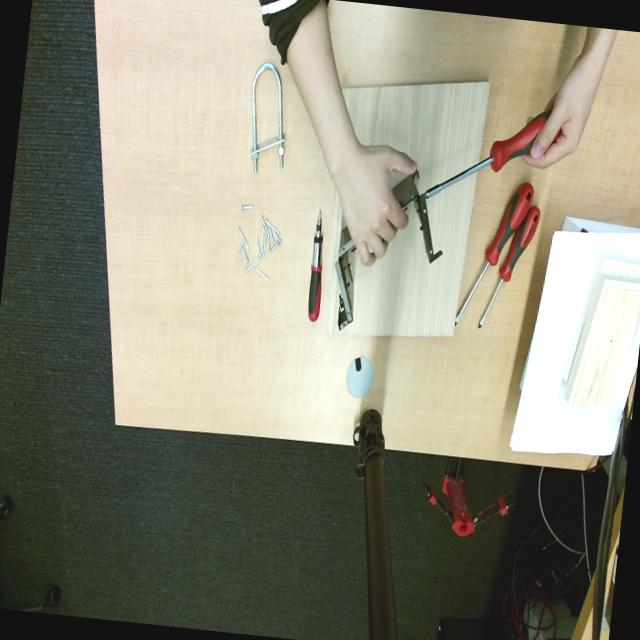screwdriver: (424, 109, 551, 199), (455, 183, 533, 323), (478, 206, 540, 328), (307, 210, 322, 321)
